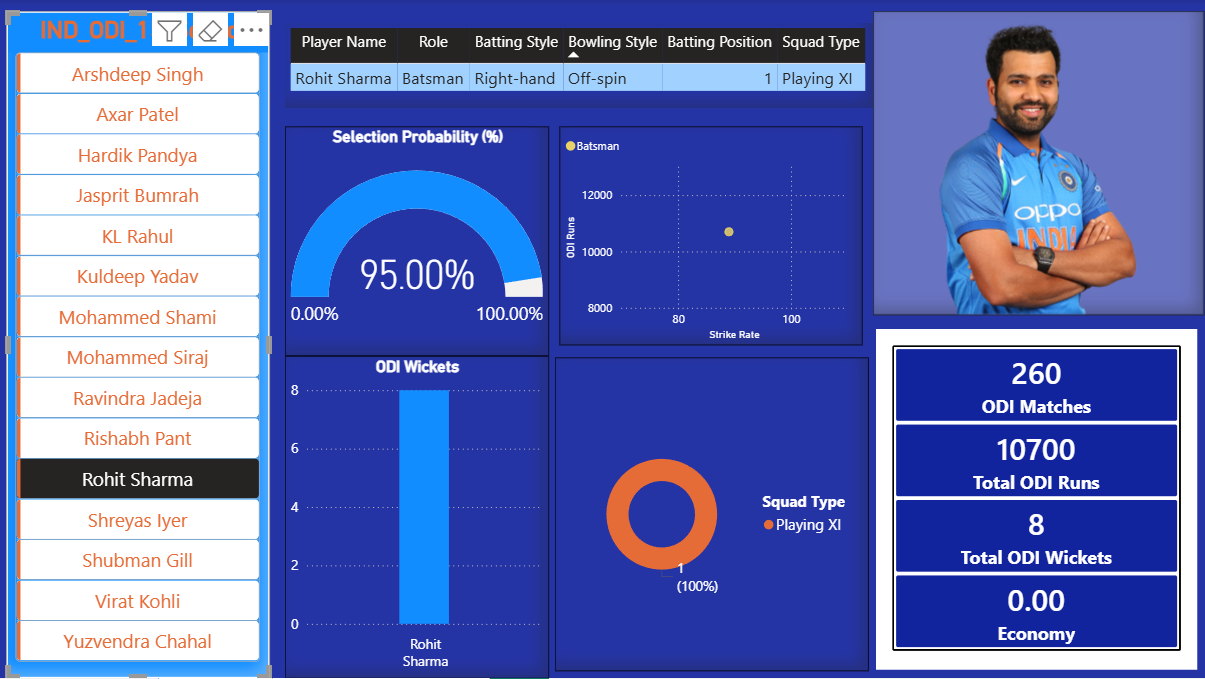

What the dashboard file says about the page in this screenshot:
{"tool":"powerbi","page":{"name":"Duplicate of Page 1","canvas":[1280,720],"ordinal":1},"visuals":[{"type":"advancedSlicerVisual","title":"IND_ODI_15_Squad","fields":{"Values":["India_Probable_15_ODI_Squad.Player Name"]},"box":[9.5,12.7,279.9,707.8],"z":0},{"type":"imageDB603108E3FF4EBFB8047F5653368E8C","fields":{"imageUrl":["India_Probable_15_ODI_Squad.Selected_Image"]},"box":[928.9,12.7,351.5,322.9],"z":1000},{"type":"cardVisual","fields":{"Data":["Sum(India_Probable_15_ODI_Squad.ODI Matches)","Sum(India_Probable_15_ODI_Squad.ODI Runs)","Sum(India_Probable_15_ODI_Squad.ODI Wickets)","Sum(India_Probable_15_ODI_Squad.Economy)"]},"box":[932.1,349.9,340.4,361.1],"z":2000},{"type":"gauge","title":"Selection Probability (%)","fields":{"Y":["India_Probable_15_ODI_Squad.selection probability %"]},"box":[305.4,135.2,279.9,243.4],"z":3000},{"type":"tableEx","fields":{"Values":["India_Probable_15_ODI_Squad.Player Name","India_Probable_15_ODI_Squad.Role","India_Probable_15_ODI_Squad.Batting Style","India_Probable_15_ODI_Squad.Bowling Style","India_Probable_15_ODI_Squad.Batting Position","India_Probable_15_ODI_Squad.Squad Type"]},"box":[305.4,25.4,623.5,90.7],"z":4000},{"type":"clusteredColumnChart","title":"ODI Wickets","fields":{"Category":["India_Probable_15_ODI_Squad.Player Name"],"Y":["Sum(India_Probable_15_ODI_Squad.ODI Wickets)"]},"box":[305,378,280,342],"z":5000},{"type":"donutChart","fields":{"Category":["India_Probable_15_ODI_Squad.Squad Type"],"Y":["CountNonNull(India_Probable_15_ODI_Squad.Player Name)"]},"box":[591.7,380.2,332.4,332.4],"z":5001},{"type":"scatterChart","fields":{"X":["Sum(India_Probable_15_ODI_Squad.Strike Rate)"],"Y":["Sum(India_Probable_15_ODI_Squad.ODI Runs)"],"Category":["India_Probable_15_ODI_Squad.Player Name"],"Series":["India_Probable_15_ODI_Squad.Role"]},"box":[596.5,135.2,321.3,232.2],"z":5002}]}

Visuals, with their boxes in screenshot pixels (x1, y1, x2, y2), scaled from the page's 1280x720 canvas onto the 1205x679 screenshot:
"IND_ODI_15_Squad" advancedSlicerVisual: (9,12,272,678)
imageDB603108E3FF4EBFB8047F5653368E8C - India_Probable_15_ODI_Squad.Selected_Image: (874,12,1204,316)
cardVisual - Sum(India_Probable_15_ODI_Squad.ODI Matches) x Sum(India_Probable_15_ODI_Squad.ODI Runs): (877,330,1198,671)
"Selection Probability (%)" gauge: (288,128,551,357)
tableEx - India_Probable_15_ODI_Squad.Player Name x India_Probable_15_ODI_Squad.Role: (288,24,874,109)
"ODI Wickets" clusteredColumnChart: (287,356,551,678)
donutChart - India_Probable_15_ODI_Squad.Squad Type x CountNonNull(India_Probable_15_ODI_Squad.Player Name): (557,359,870,672)
scatterChart - Sum(India_Probable_15_ODI_Squad.Strike Rate) x Sum(India_Probable_15_ODI_Squad.ODI Runs): (562,128,864,346)
